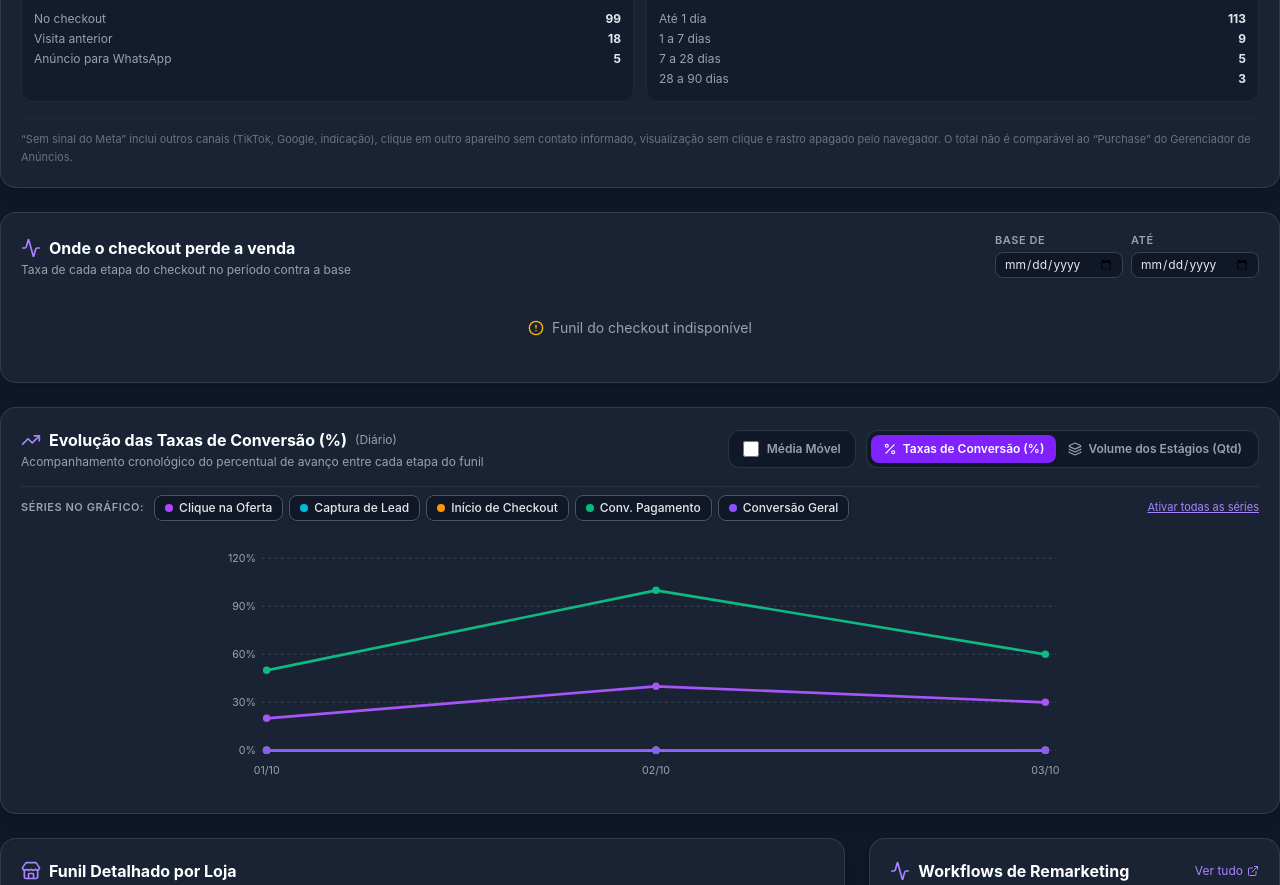
Test: LeadsDashboard — Média Móvel no Gráfico › inicia com o checkbox de média móvel desmarcado e o ativa ao clicar
The image size is (1280, 885).
(page scrolled)
Expected: the text "• Média Móvel" is not shown
// Ativa o checkbox
Click the checkbox labelled "Média Móvel" at {"x": 751, "y": 448}, box left=743, top=440, right=759, bottom=456
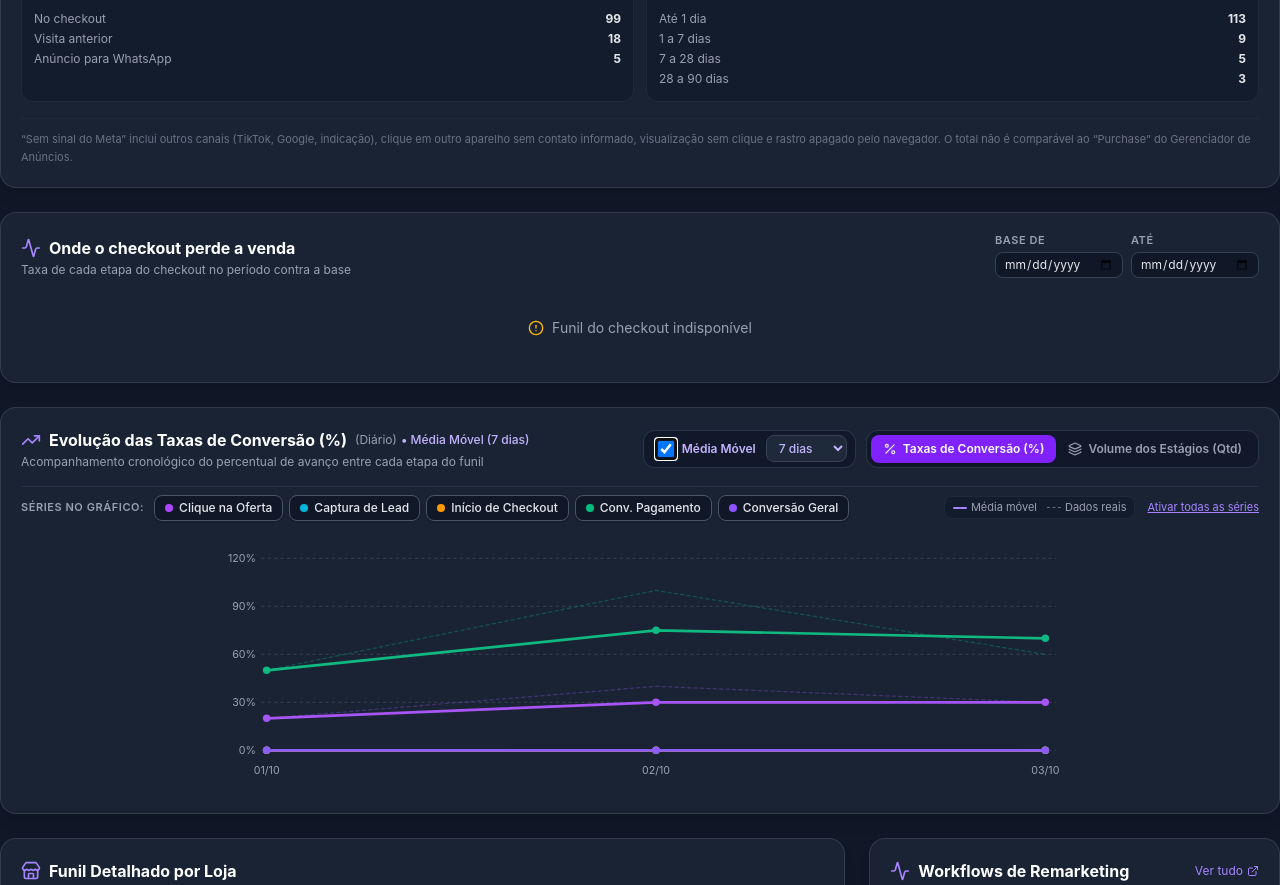
Result: the checkbox labelled "Média Móvel" is checked at left=658, top=440, right=674, bottom=456
Result: the dropdown named "Janela da média móvel" is shown
Result: the dropdown named "Janela da média móvel" shows "7 dias"
// Troca para 14 dias
Select "14 dias" in the dropdown named "Janela da média móvel" at {"x": 806, "y": 448}, box left=766, top=435, right=847, bottom=462
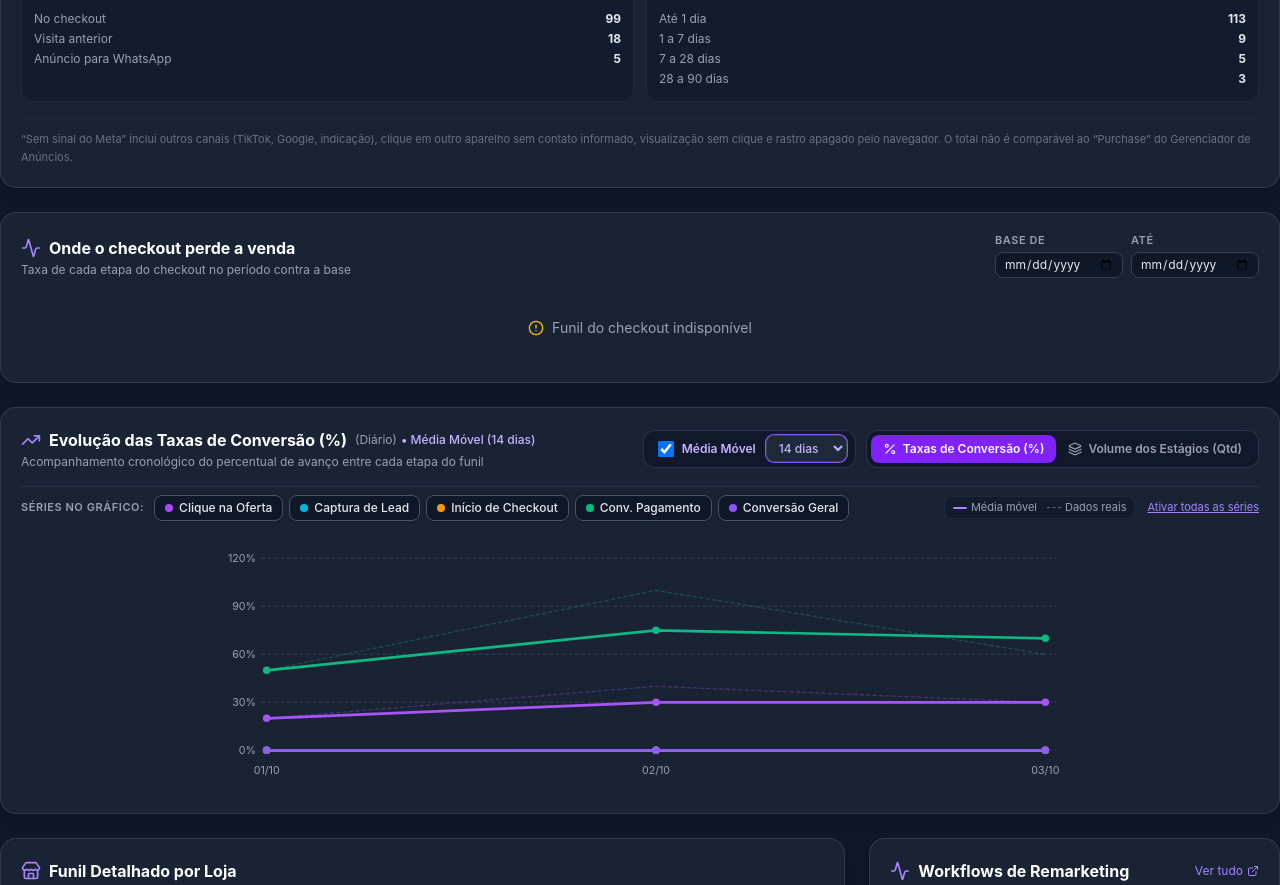
Result: the text "• Média Móvel (14 dias)" is shown at left=401, top=432, right=536, bottom=446
// Desmarca o checkbox
Click the checkbox labelled "Média Móvel" at {"x": 666, "y": 448}, box left=658, top=440, right=674, bottom=456
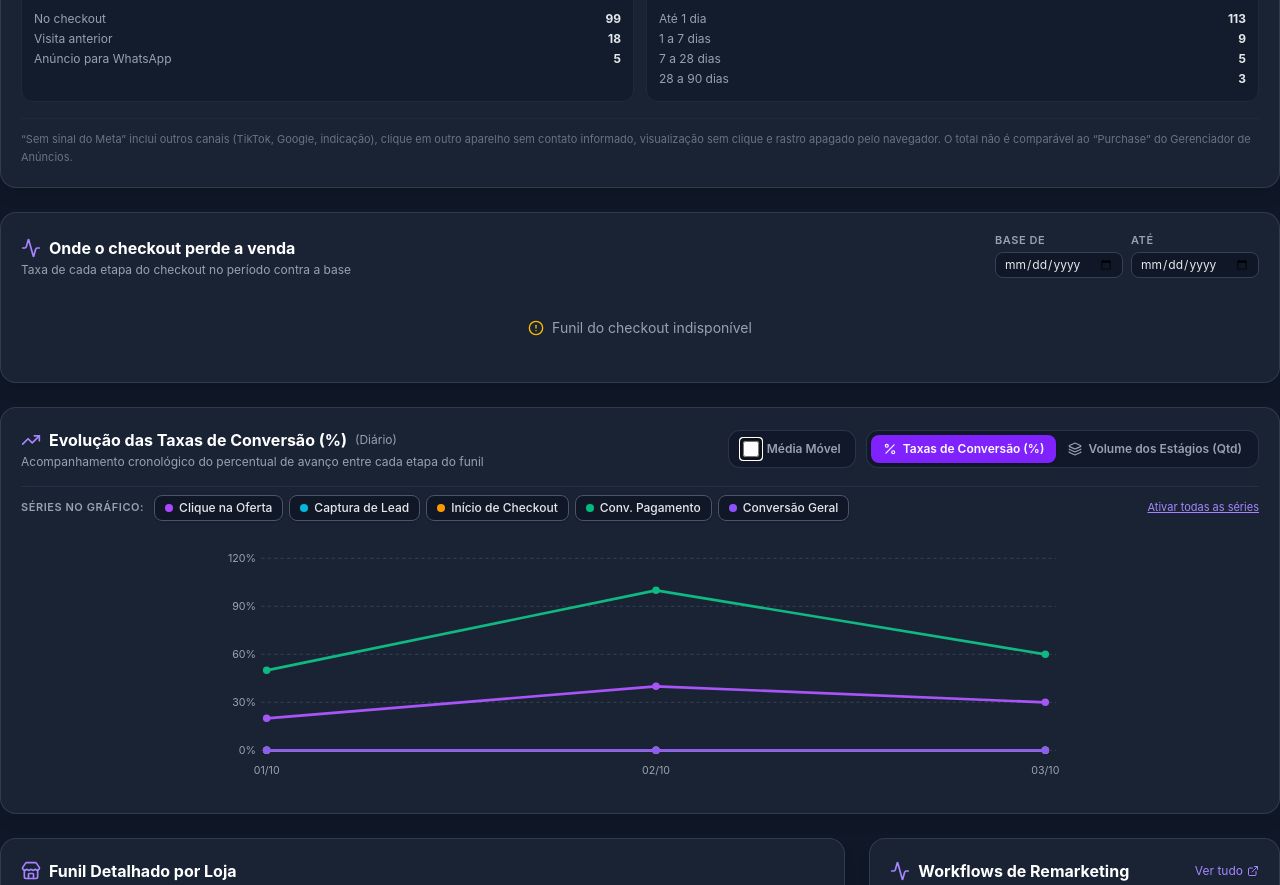
Result: the checkbox labelled "Média Móvel" is not checked at left=743, top=440, right=759, bottom=456
Result: the text "• Média Móvel" is gone
